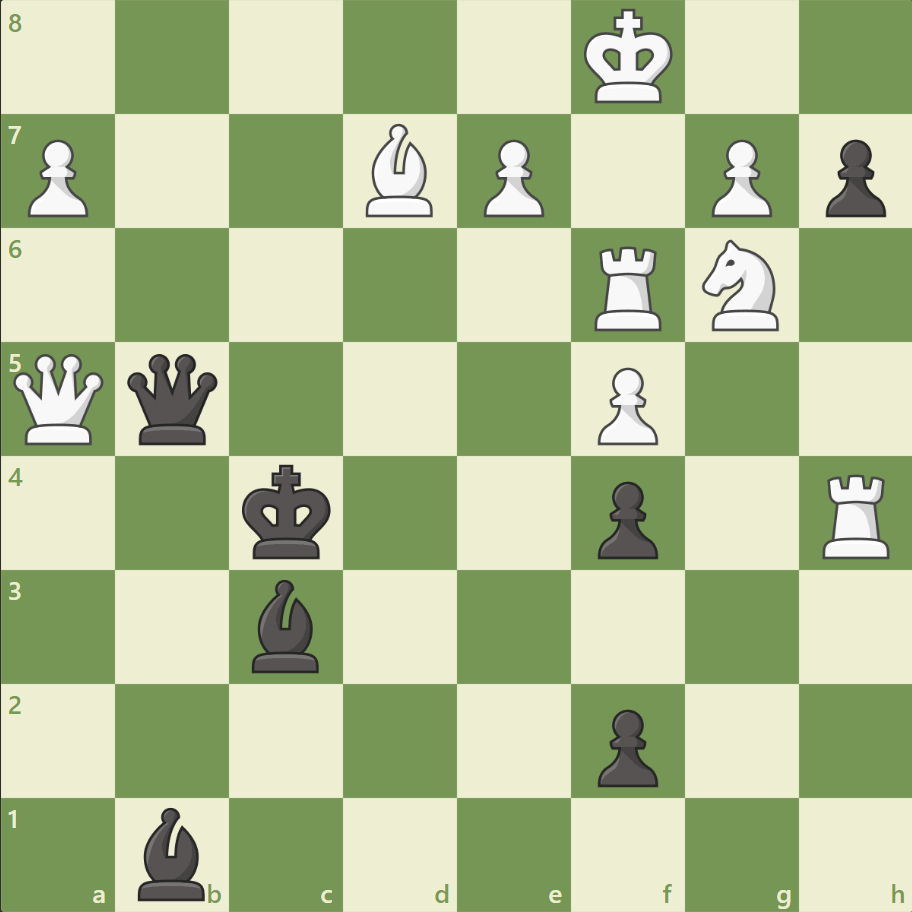B: (358, 120, 442, 222)
K: (579, 4, 679, 112)
N: (692, 234, 789, 337)
P: (20, 132, 95, 223), (474, 132, 549, 223), (701, 132, 776, 223), (588, 359, 662, 450)
Q: (10, 349, 109, 449)
R: (587, 239, 670, 336), (814, 466, 897, 563)
b: (131, 801, 215, 904), (244, 574, 328, 676)
k: (238, 458, 338, 566)
p: (815, 132, 889, 223), (588, 473, 662, 564), (588, 700, 662, 791)
q: (124, 349, 223, 449)
